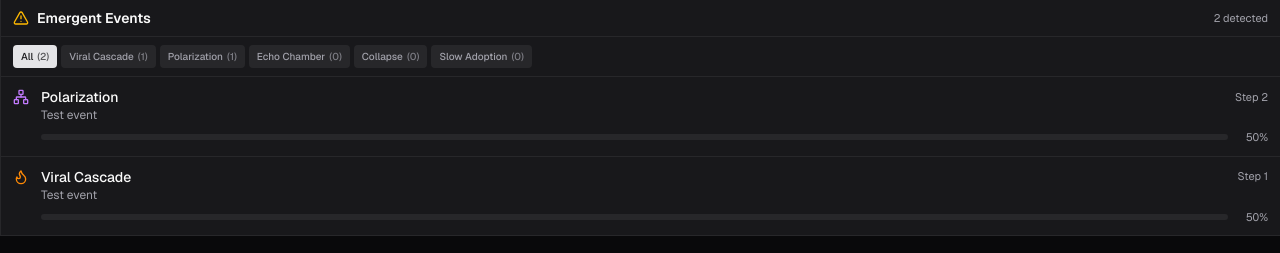
Scenario: <EmergentEventsPanel /> › filters events when a filter button is clicked
Step 1. Click the button with test id "emergent-filter-polarization" → (202, 56), box [160,45,245,68]
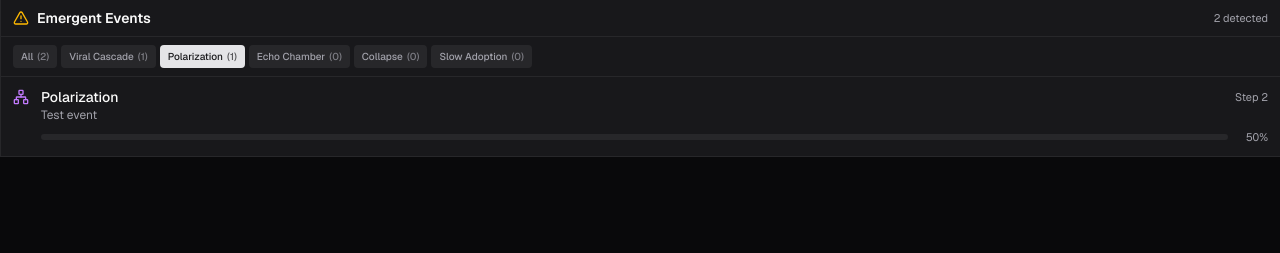
Expected: the list item with test id "emergent-event-row-2-polarization" is shown, [1,77,1279,156]
Now the list item with test id "emergent-event-row-1-viral_cascade" is gone
